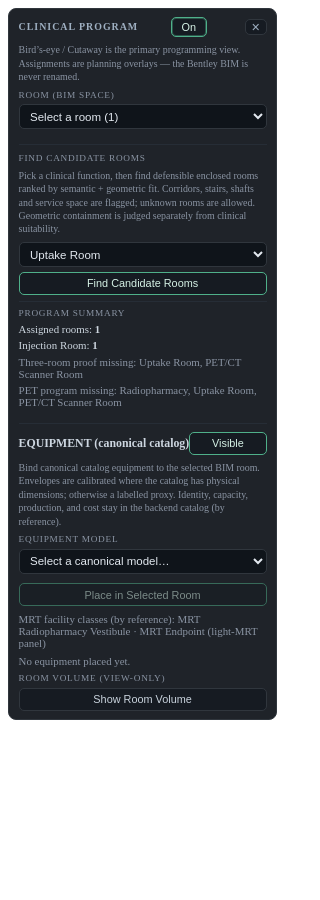
Test case: Build 1A.4 §29 — product containment validation UI (no Developer mode) › the validation summary reports needs-attention on FAIL
Select "Injection Room 01 — 1DC1 WAITING / ACTIVITY AREA" in the dropdown below "Room (BIM space)" at (143, 117), box top-left (19, 104), bottom-right (267, 129)
(page scrolled)
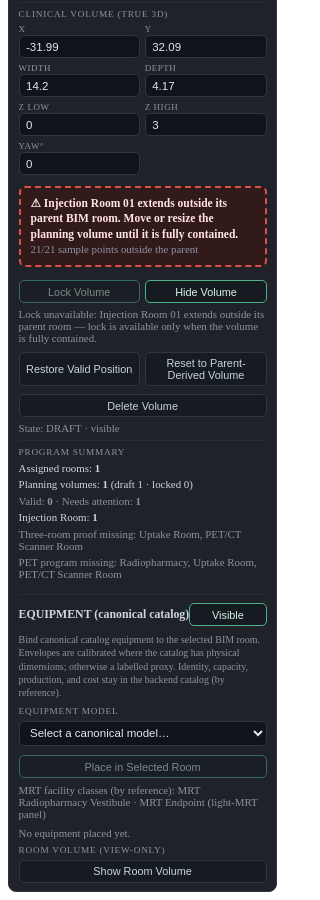
Now the text "Valid: 0 · Needs attention: 1" is shown, box top-left (19, 495), bottom-right (141, 507)
